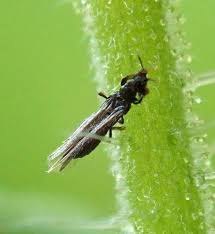Phlaeothripidae: (43, 48, 165, 178)
